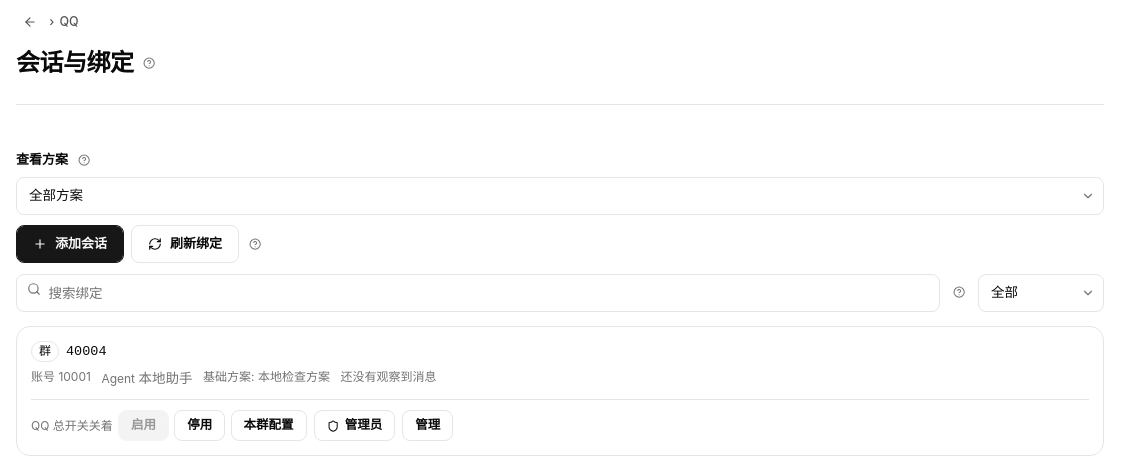
Test: scheme bindings (详情「使用会话」与全局「会话绑定」共用视图) › keeps a binding with no observed messages and scopes the board by the chosen scheme
Expected: the text "40004" is shown, x1=66 y1=342 x2=106 y2=361
Expected: the text "还没有观察到消息" is shown, x1=340 y1=369 x2=436 y2=388
原「按号码搜索」控件已随接入页移除；列表过滤由视图上真实存在的方案选择器承接。
Select "备用方案" in the dropdown labelled "查看方案": (560, 196) x1=16 y1=176 x2=1104 y2=214
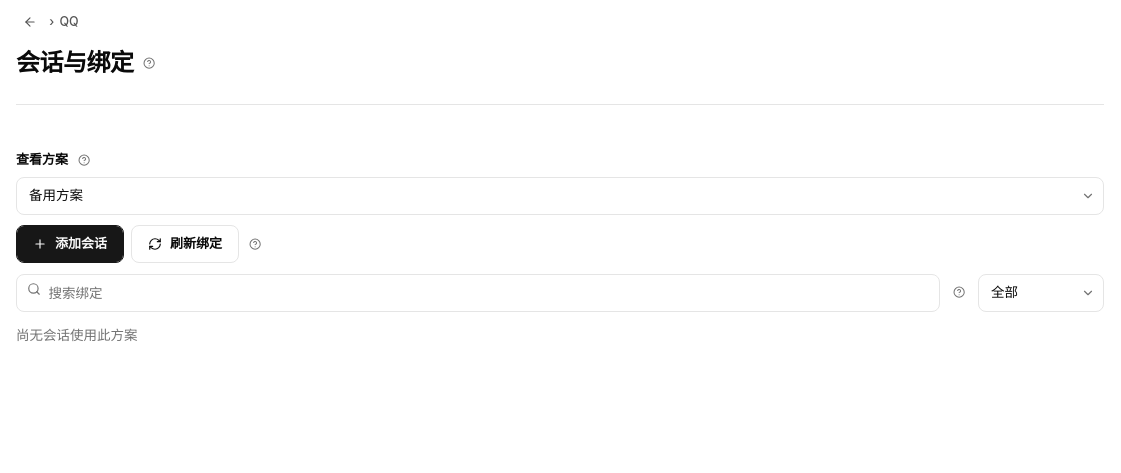
Expected: the text "40004" is gone
Select "本地检查方案" in the dropdown labelled "查看方案": (560, 196) x1=16 y1=176 x2=1104 y2=214
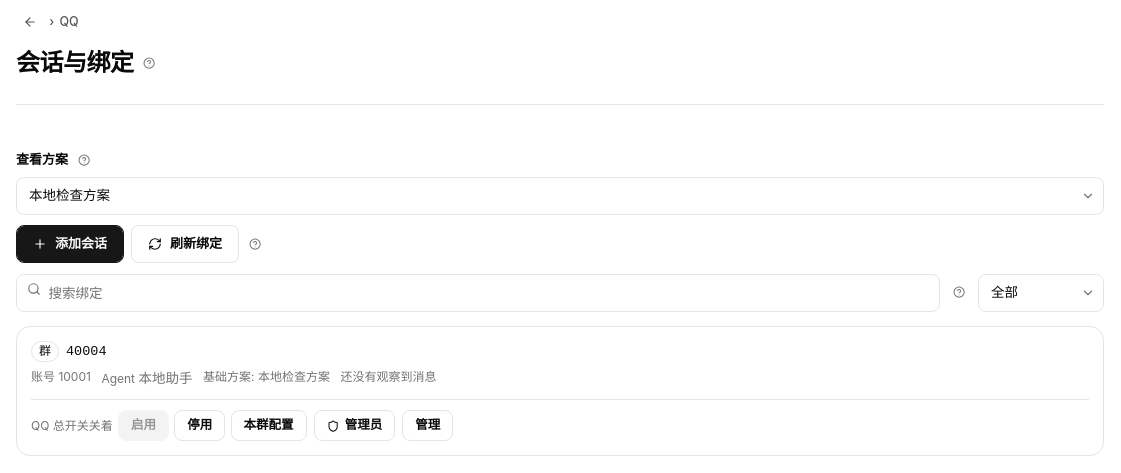
Expected: the text "40004" is shown, x1=66 y1=342 x2=106 y2=361
